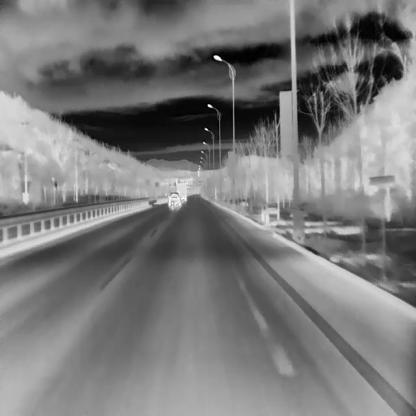car: (167, 191, 181, 206), (178, 184, 187, 201)
